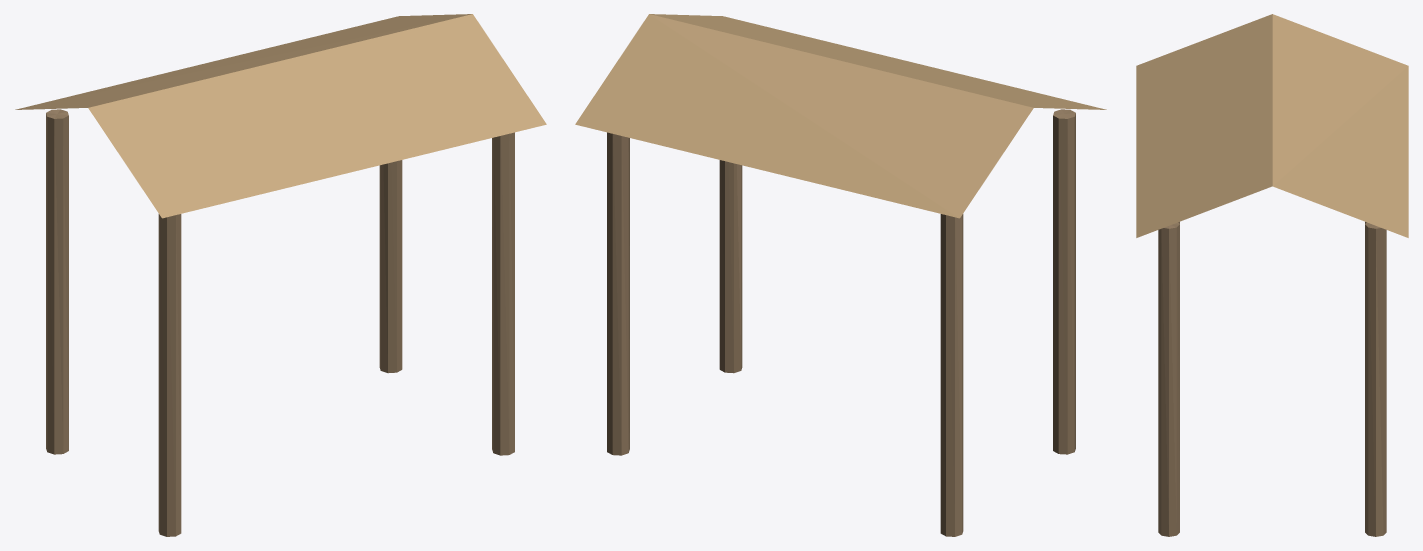
File: desert_market_awning.glb
3 renders of one model, left to right at view 1: azimuth 30°, elevation 25°; view 2: azimuth 150°, elevation 25°; view 3: azimuth 270°, elevation 25°, orthographic. The views are drawn at different scales.
Visible parts, largest first — view 1: awning, post_-0.65_0.38, post_-0.65_-0.38, post_0.65_-0.38, post_0.65_0.38; view 2: awning, post_-0.65_-0.38, post_-0.65_0.38, post_0.65_0.38, post_0.65_-0.38; view 3: awning, post_0.65_-0.38, post_0.65_0.38.
Part boxes in pixels (x1,y1,x2,y2): awning: (15, 14, 546, 218); post_-0.65_0.38: (46, 109, 68, 454); post_-0.65_-0.38: (158, 214, 181, 536); post_0.65_-0.38: (492, 132, 514, 455); post_0.65_0.38: (379, 160, 402, 373); awning: (575, 14, 1106, 218); post_-0.65_-0.38: (1053, 109, 1075, 454); post_-0.65_0.38: (940, 214, 963, 536); post_0.65_0.38: (607, 132, 629, 455); post_0.65_-0.38: (719, 160, 742, 373); awning: (1136, 14, 1408, 237); post_0.65_-0.38: (1158, 222, 1179, 536); post_0.65_0.38: (1365, 222, 1386, 536).
Bounding box in the file's own units: 1.5 × 1.45 × 1.
